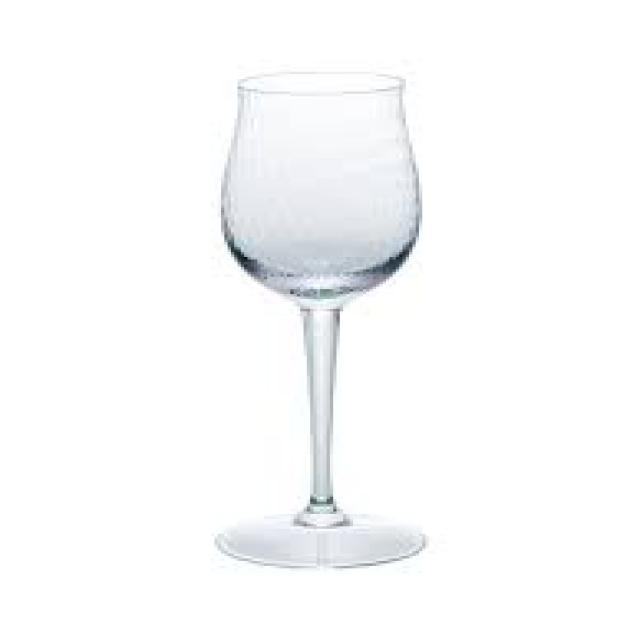Glass: (216, 66, 432, 570)
